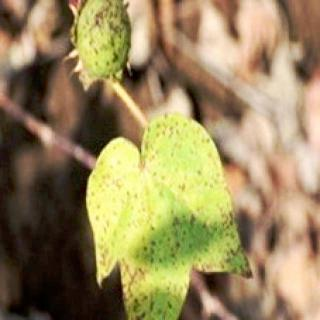leaf spot: (83, 111, 253, 320), (68, 2, 136, 80)
